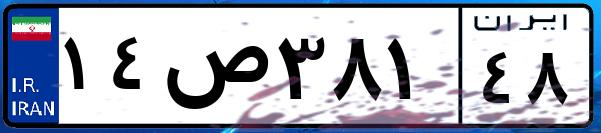1: (385, 28, 445, 110), (57, 26, 110, 100)
3: (270, 28, 330, 110)
4: (475, 38, 525, 113), (110, 28, 158, 98)
8: (330, 28, 385, 110), (525, 38, 570, 115)
ص: (158, 20, 270, 120)
